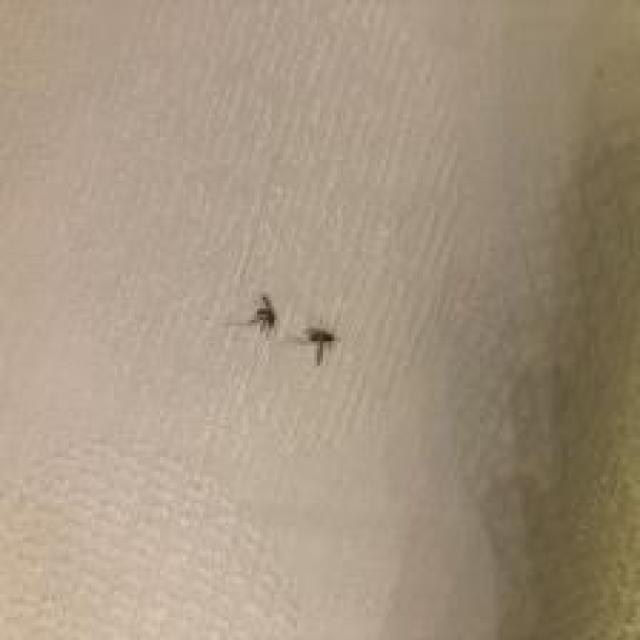Culex: (249, 293, 277, 336)
